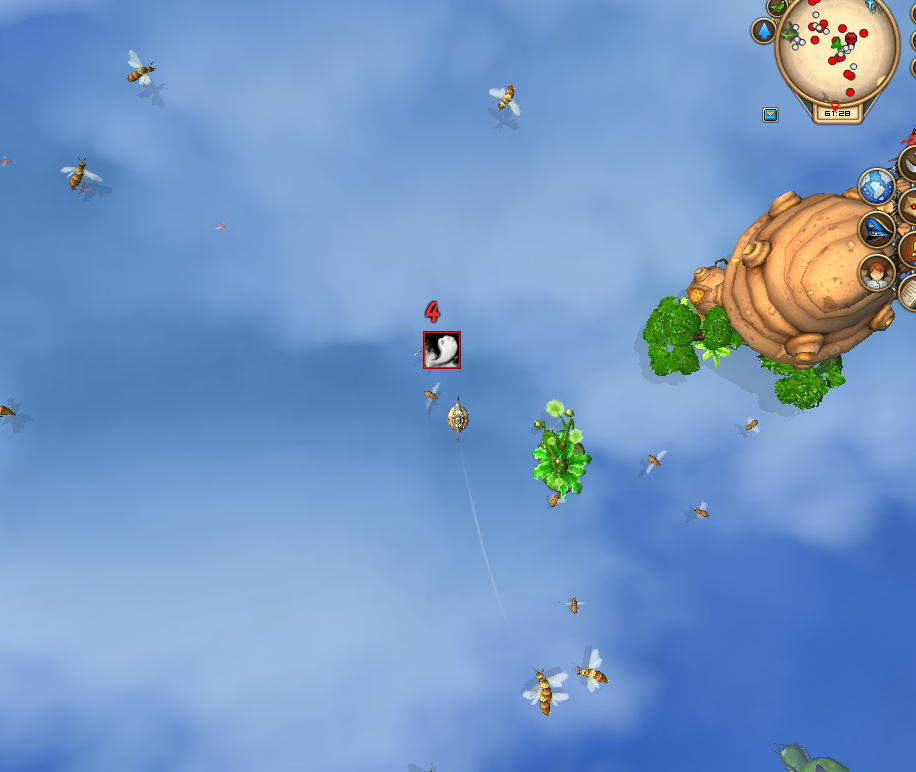dandelion-full: (521, 392, 598, 510)
